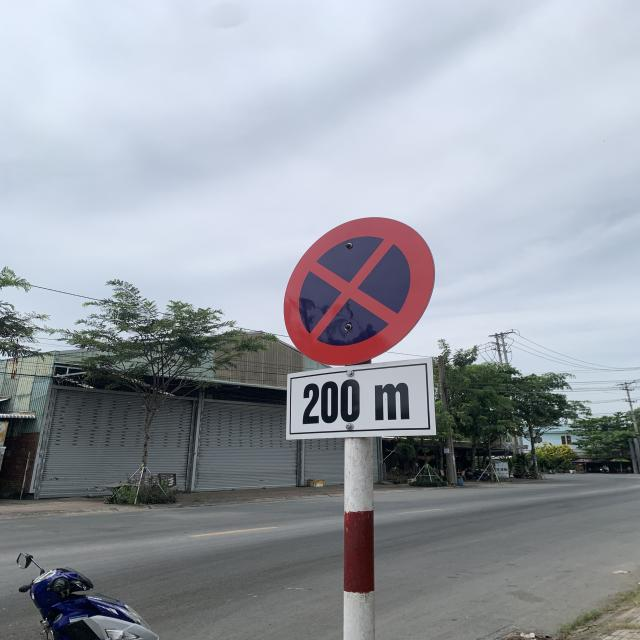Cam_Dung_Va_Dau_Xe: (282, 216, 431, 364)
